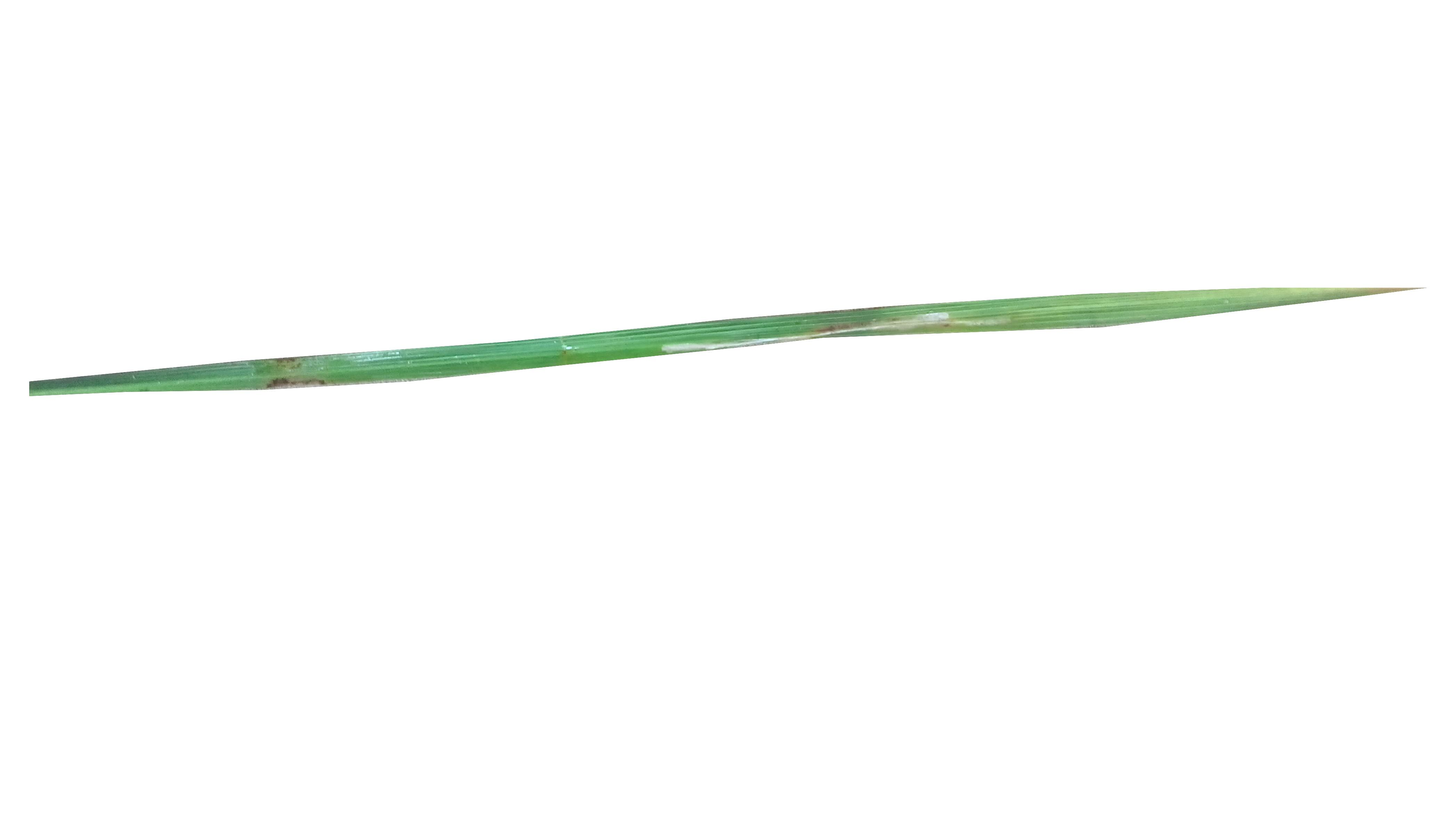Blight: (814, 301, 1017, 346)
Rice blast: (259, 355, 328, 398)
Tungro: (1227, 274, 1433, 316)
